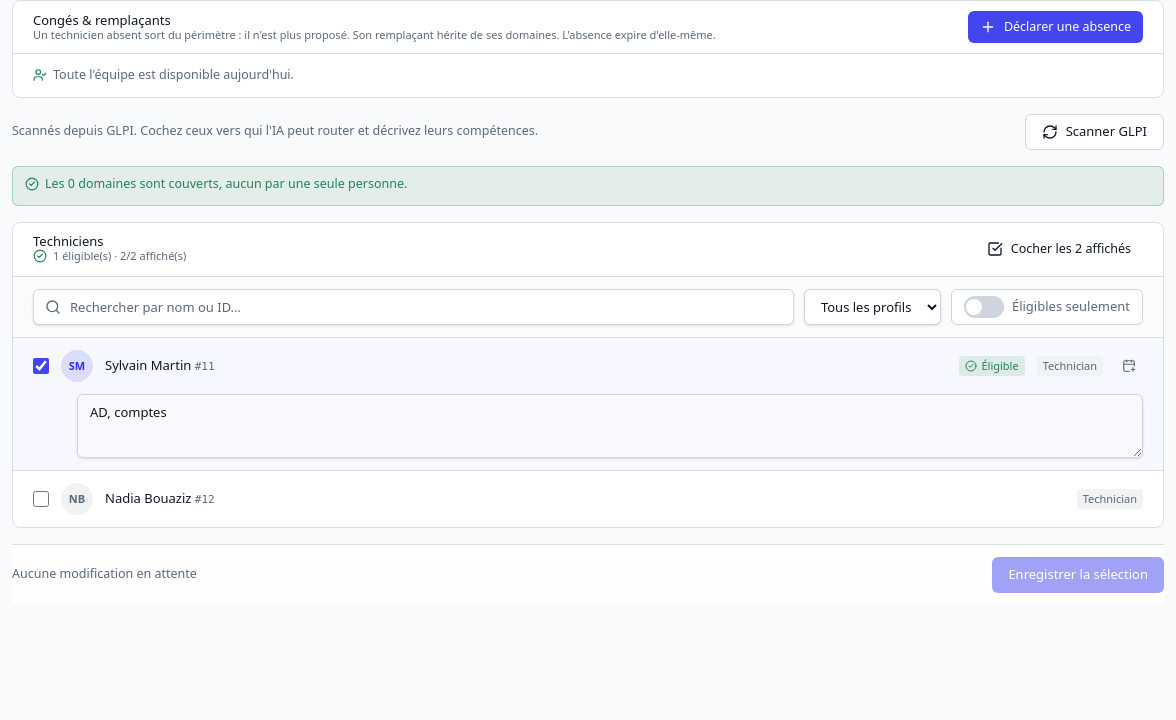
it: Technicians (éditeur d'éligibilité) › n'enregistre que ce qui a changé — bouton inerte tant que rien ne l'est
Expected: the text "Sylvain Martin" is shown, x1=105 y1=356 x2=191 y2=374
Expected: the button "Enregistrer la sélection" is disabled, x1=992 y1=557 x2=1164 y2=593
Click the checkbox labelled "NB Nadia Bouaziz #12" at (41, 499), box x1=33 y1=491 x2=49 y2=507
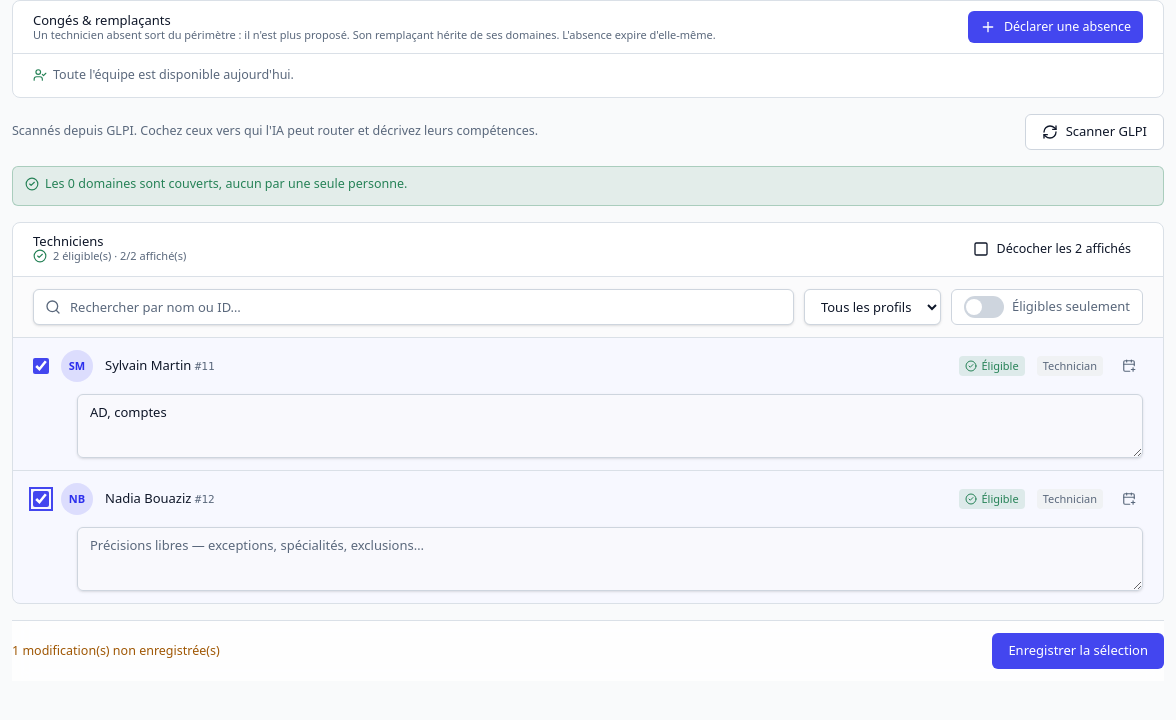
Now the text "1 modification(s) non enregistrée(s)" is shown, box x1=12 y1=642 x2=220 y2=660
Click the button "Enregistrer la sélection" at (1078, 651), box x1=992 y1=633 x2=1164 y2=669
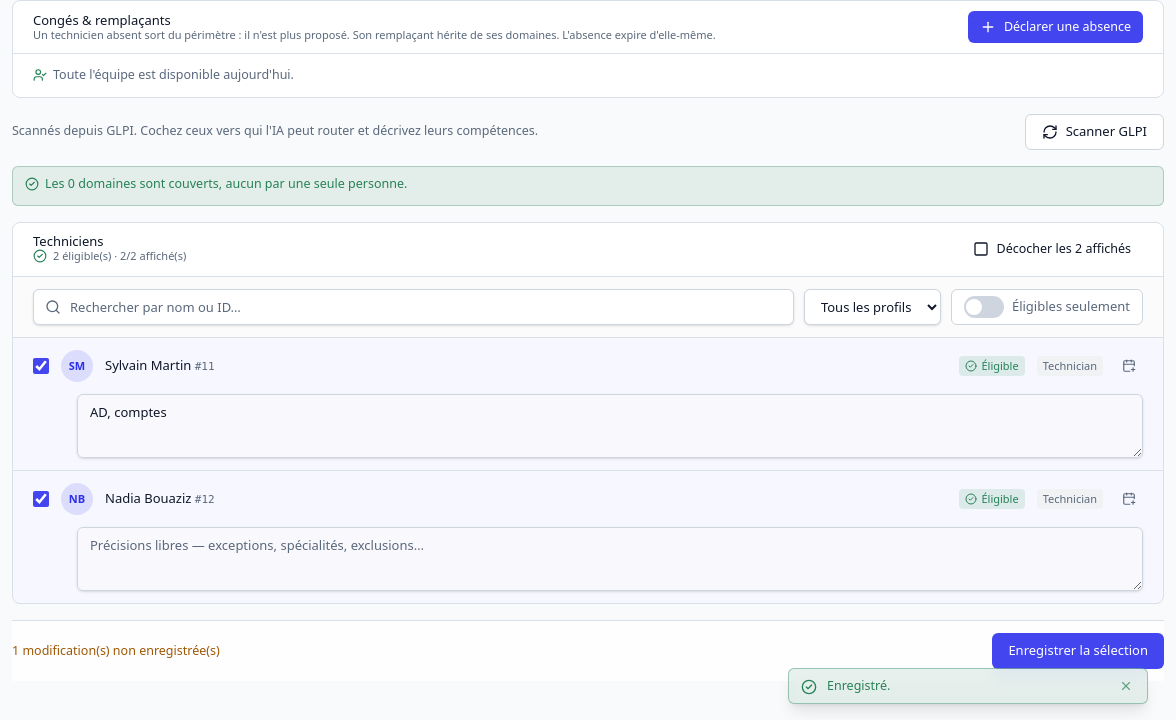
Now the text "Enregistré." is shown, box x1=827 y1=677 x2=890 y2=694
